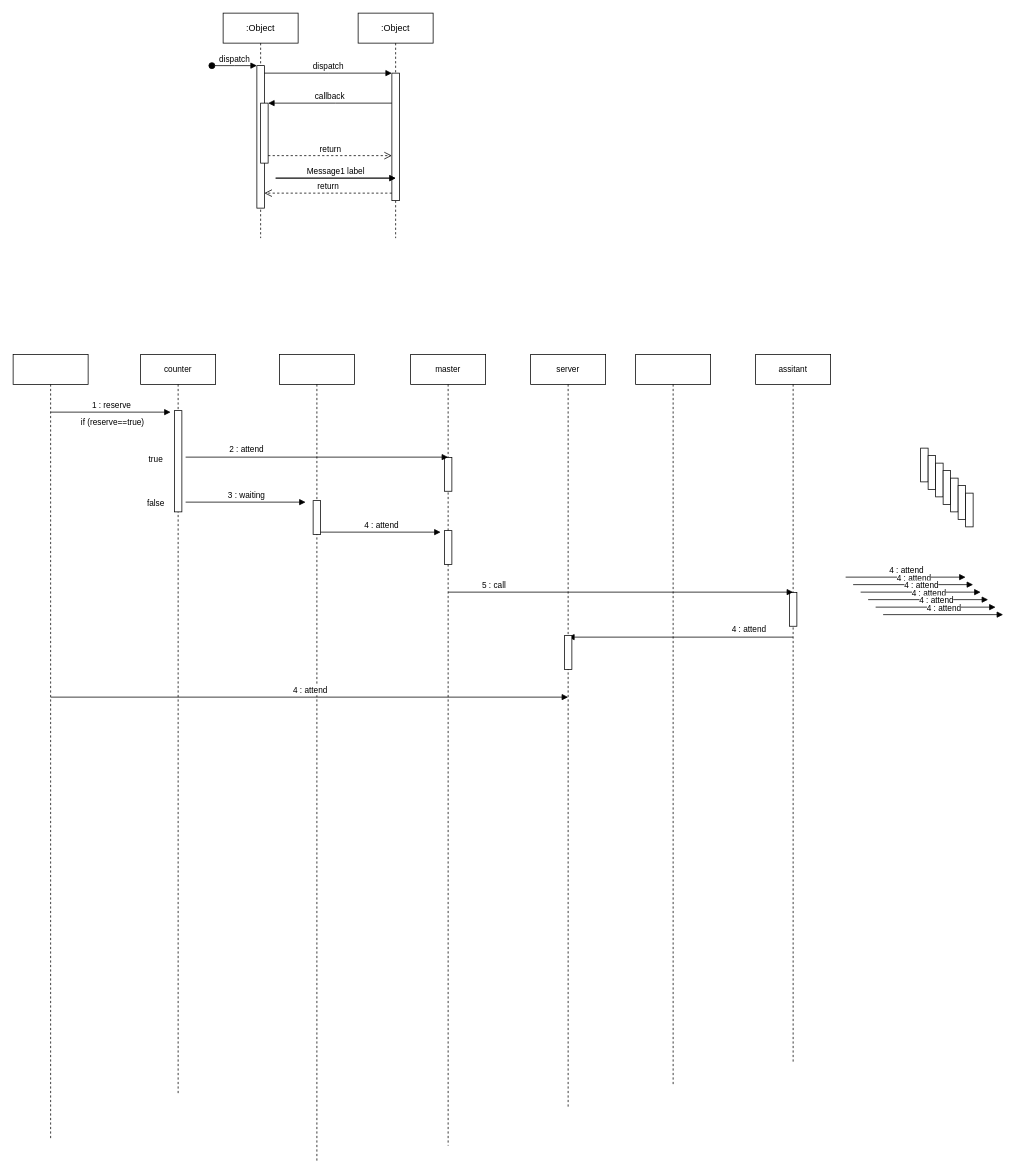
Image size: 1022x1174. Some labels were removed from this diagram. Each missing label, with the box of its shape:
chef: (635, 354, 711, 1086)
customer: (12, 354, 88, 1138)
waiting place: (279, 354, 354, 1161)
